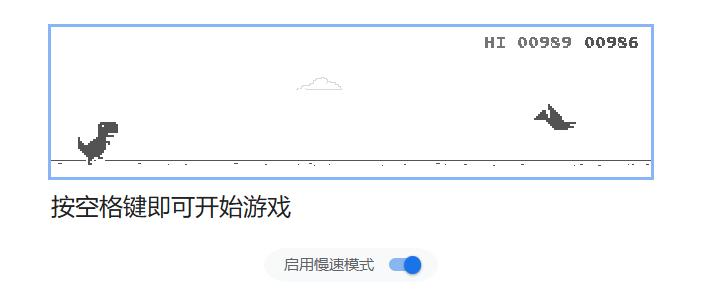bird: (533, 103, 576, 130)
dino: (75, 120, 119, 166)
